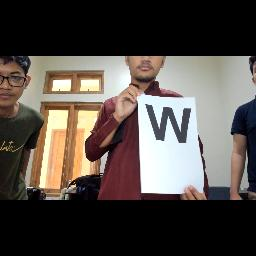w: (140, 100, 204, 146)
